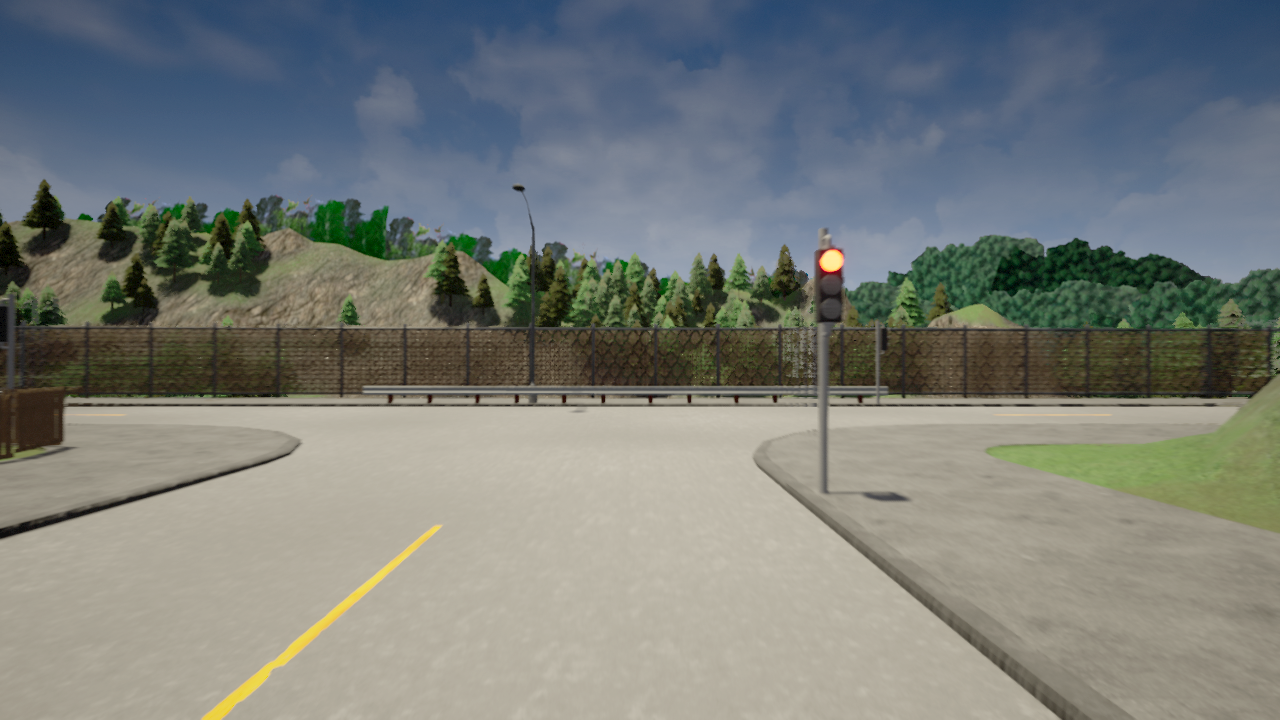red: (812, 248, 844, 327)
